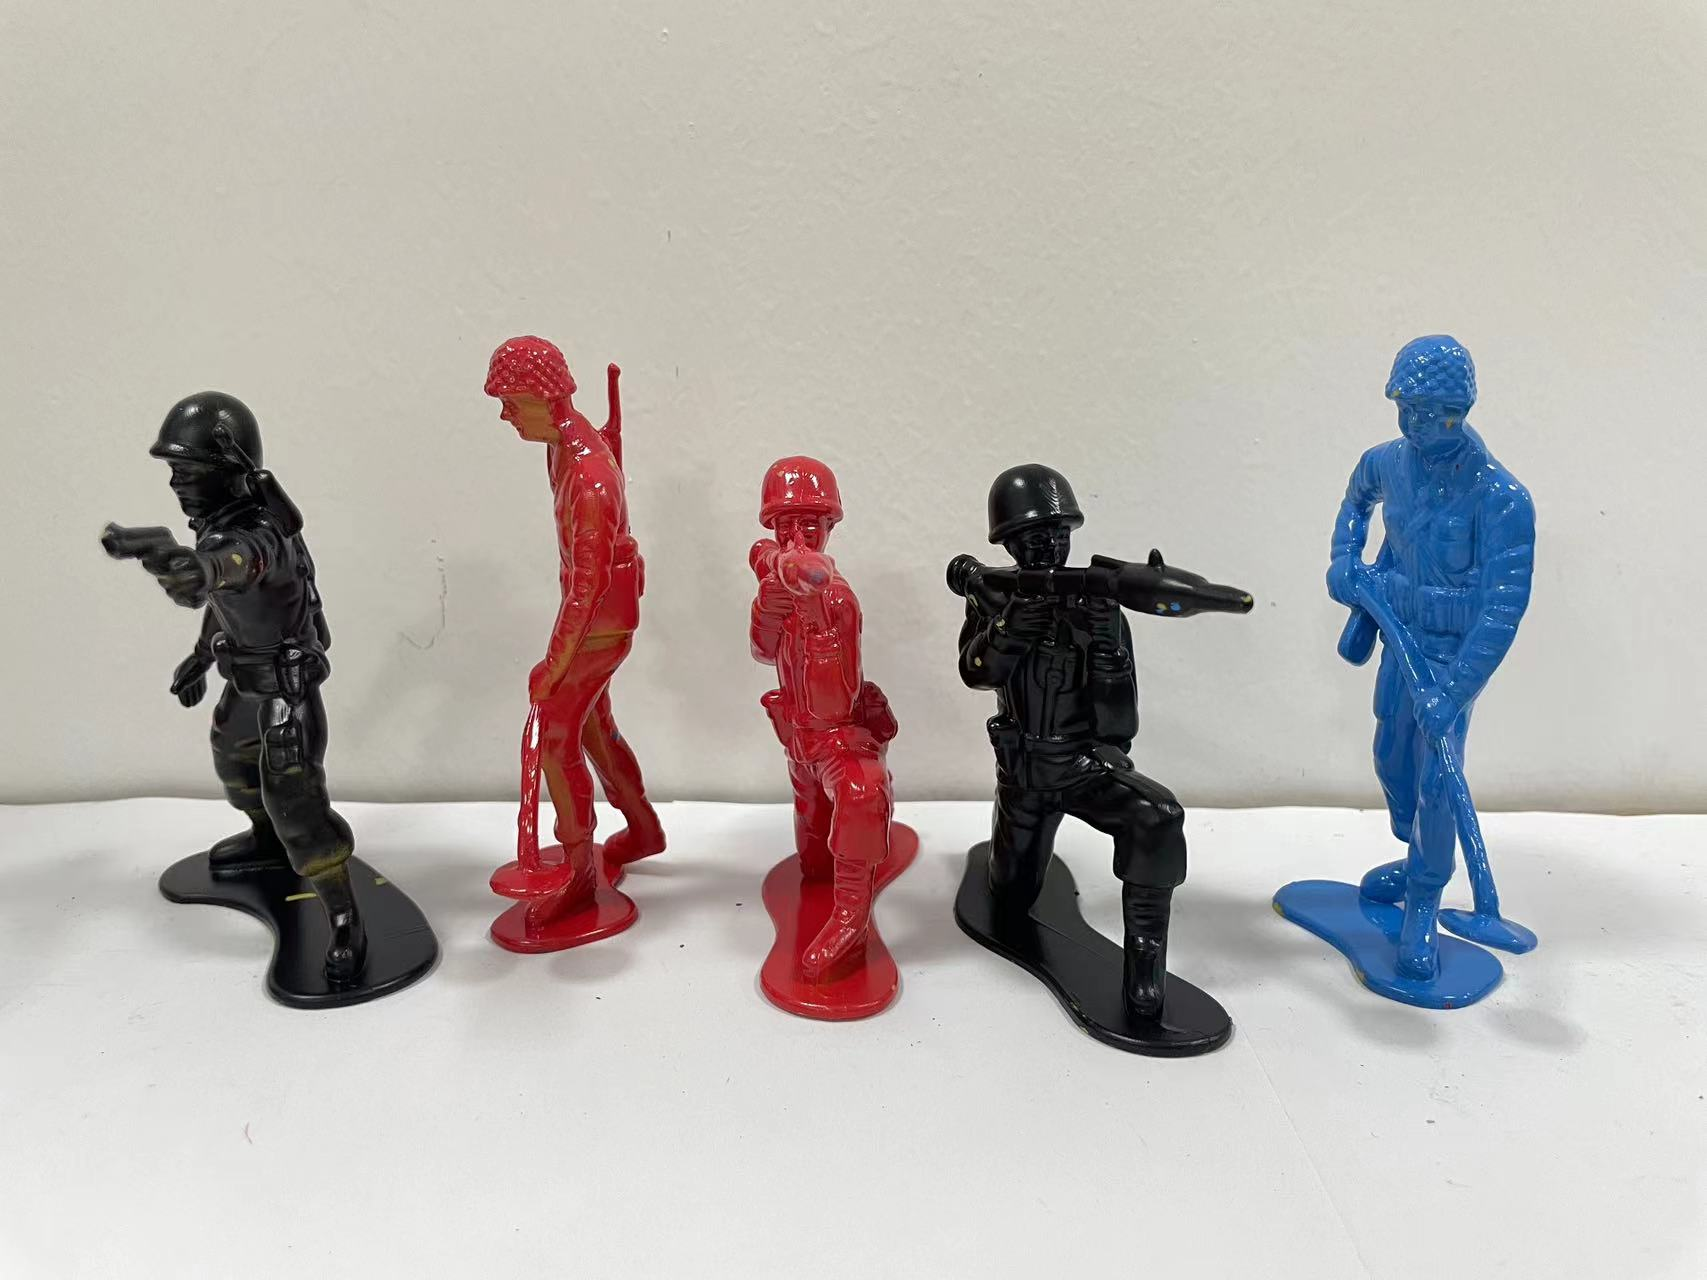black: (70, 376, 462, 1033), (946, 445, 1272, 1086)
blue: (1257, 313, 1620, 1074)
red: (448, 304, 703, 1011), (685, 445, 946, 1047)
